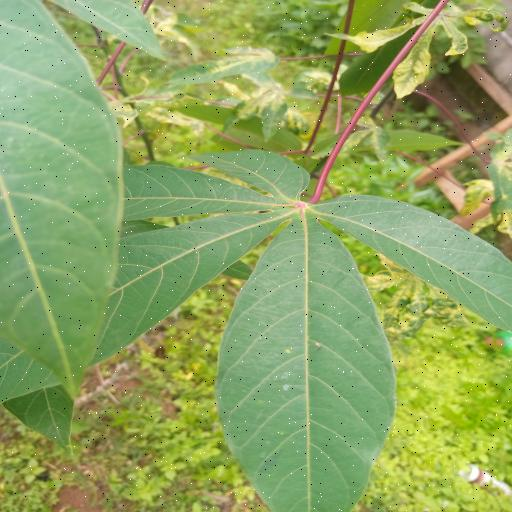Cassava_Healthy: (83, 144, 512, 510)
